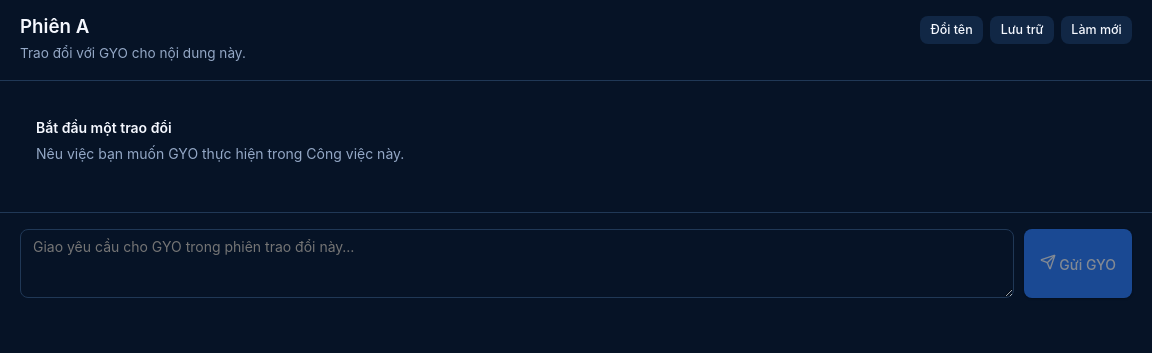
Test: ConversationWorkspace canonical assistant scope › keeps the draft and reports a scope/run conflict without retrying after run 409
Type "Tóm tắt" into the text box at (517,264), box 20,229 -> 1014,298
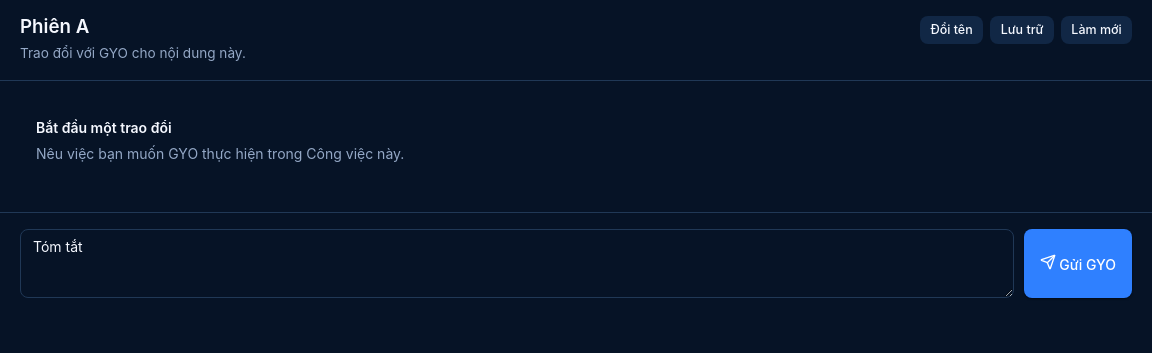
Click the button "Gửi GYO" at (1078,264), box 1024,229 -> 1132,298
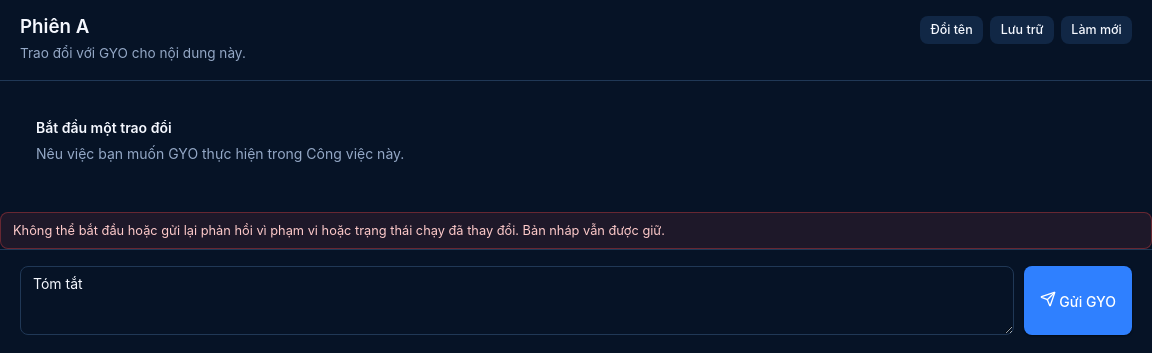
Now the text "phạm vi hoặc trạng thái chạy" is shown, box 13,223 -> 665,238
